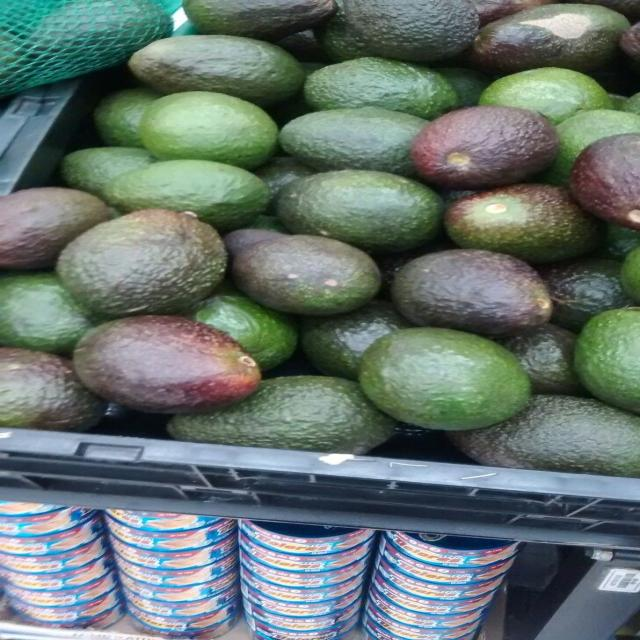avocado: (74, 316, 261, 413), (58, 210, 226, 317), (168, 376, 395, 454), (360, 328, 530, 430), (450, 396, 639, 477), (276, 170, 443, 252), (392, 249, 551, 335), (0, 0, 173, 79), (445, 184, 603, 263), (130, 36, 305, 105), (413, 106, 558, 189), (105, 160, 269, 232), (233, 236, 380, 315), (468, 4, 629, 73), (140, 91, 277, 169), (280, 107, 426, 175), (305, 58, 457, 119), (0, 188, 109, 269), (301, 301, 410, 380), (0, 349, 103, 431), (344, 0, 479, 61), (191, 295, 298, 370), (0, 273, 92, 354), (480, 68, 612, 124), (543, 110, 639, 185), (574, 308, 640, 412), (540, 259, 632, 331), (571, 133, 639, 230), (183, 0, 335, 40), (501, 324, 585, 395), (375, 237, 455, 298), (60, 147, 154, 198), (94, 88, 160, 147), (314, 0, 373, 62), (255, 157, 316, 210), (437, 68, 491, 108), (473, 0, 555, 26), (276, 29, 330, 63), (225, 228, 283, 258), (566, 0, 639, 22), (606, 224, 639, 260), (621, 248, 639, 303), (620, 22, 640, 62), (438, 189, 478, 208), (248, 215, 289, 233), (619, 93, 639, 115), (610, 94, 629, 111)
